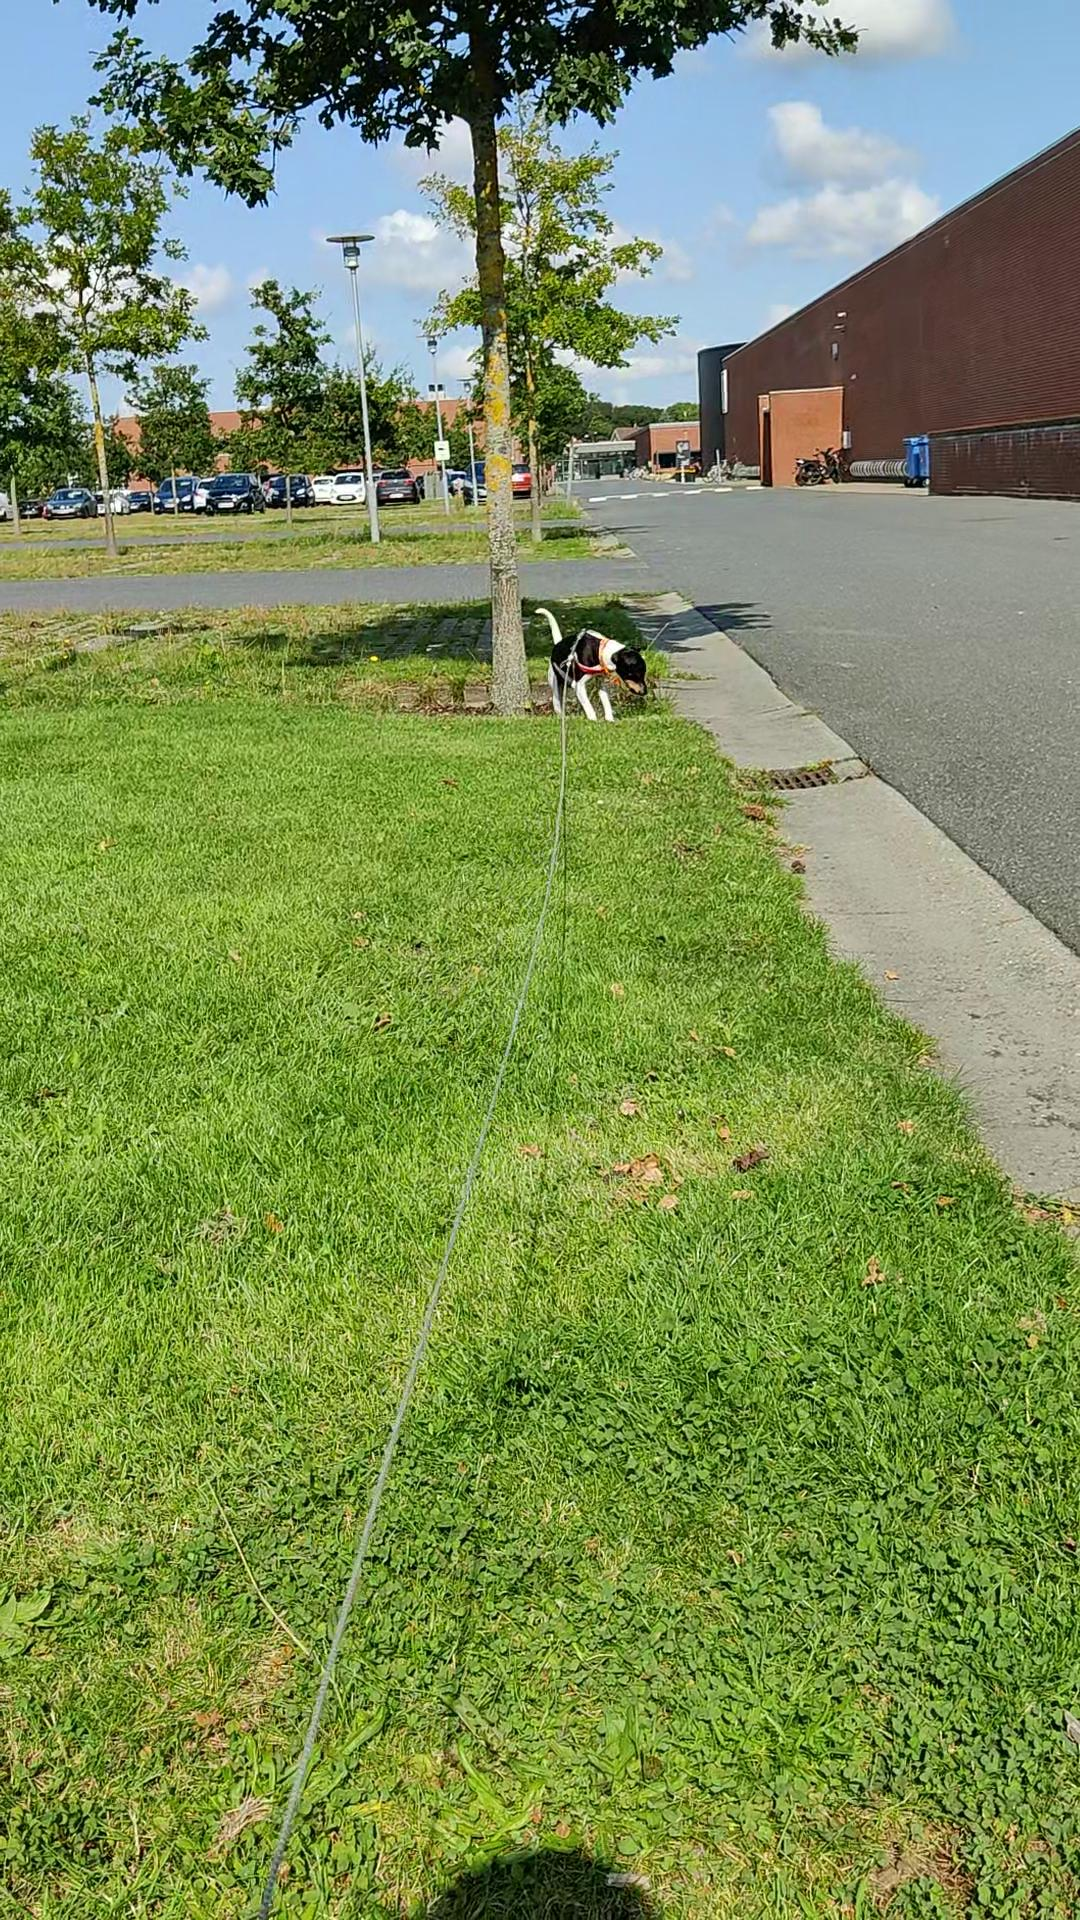Dog: (531, 603, 651, 732)
